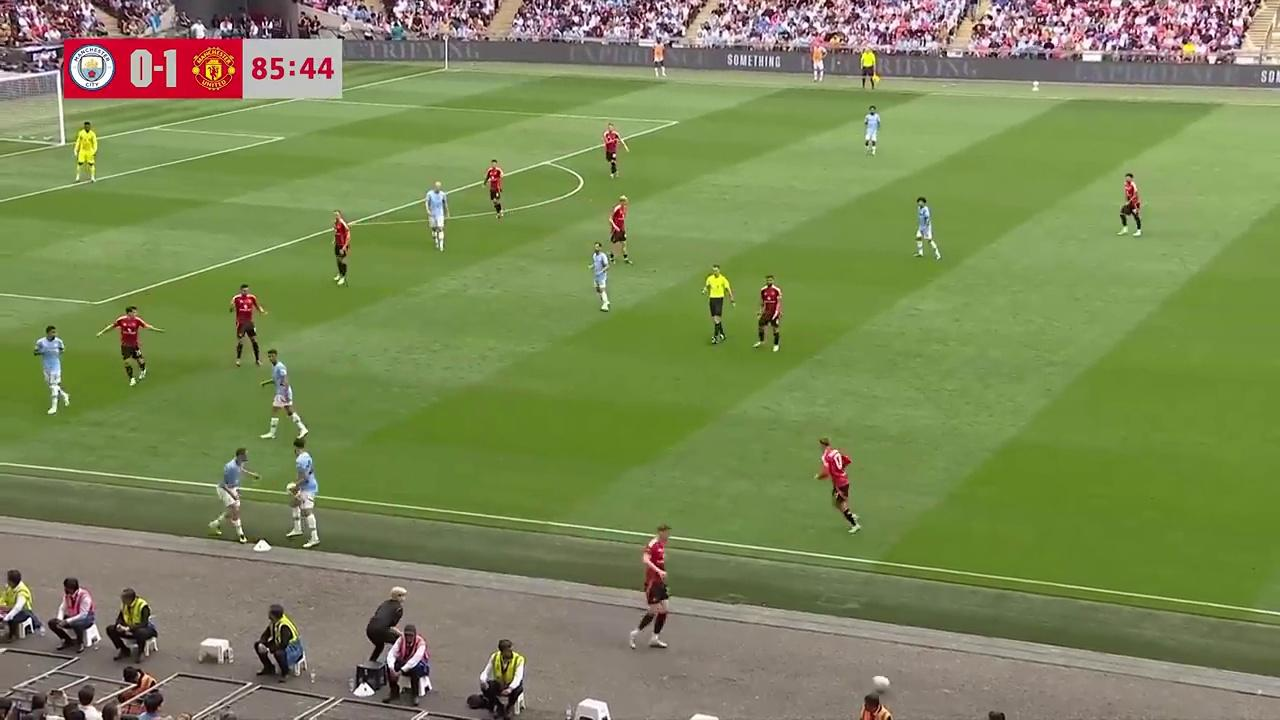player: (98, 305, 163, 385), (257, 348, 308, 441), (813, 439, 861, 533), (207, 447, 251, 542), (285, 436, 320, 544), (32, 324, 71, 414), (229, 282, 267, 367), (755, 275, 782, 352), (914, 196, 941, 260), (608, 195, 632, 266), (424, 181, 448, 251), (1118, 172, 1143, 237), (588, 242, 611, 311), (73, 121, 98, 184), (332, 210, 351, 285), (484, 159, 505, 220), (602, 123, 625, 177), (863, 105, 880, 156)
referee: (702, 264, 732, 344), (859, 48, 879, 92)
